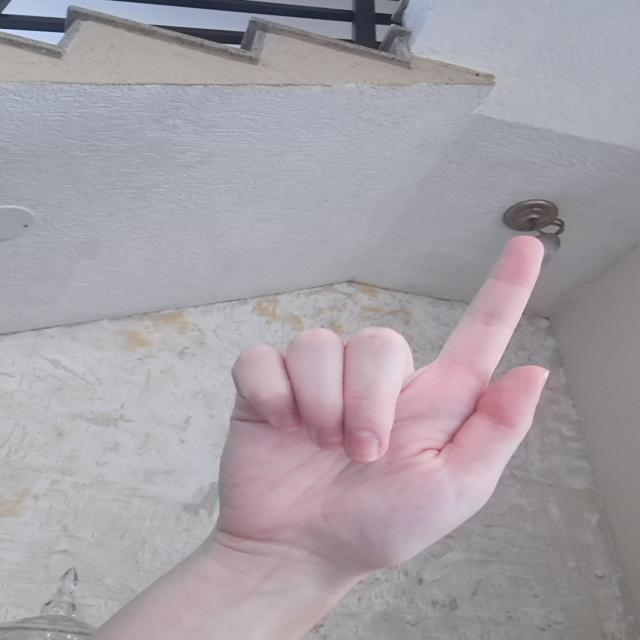G: (201, 226, 565, 566)
